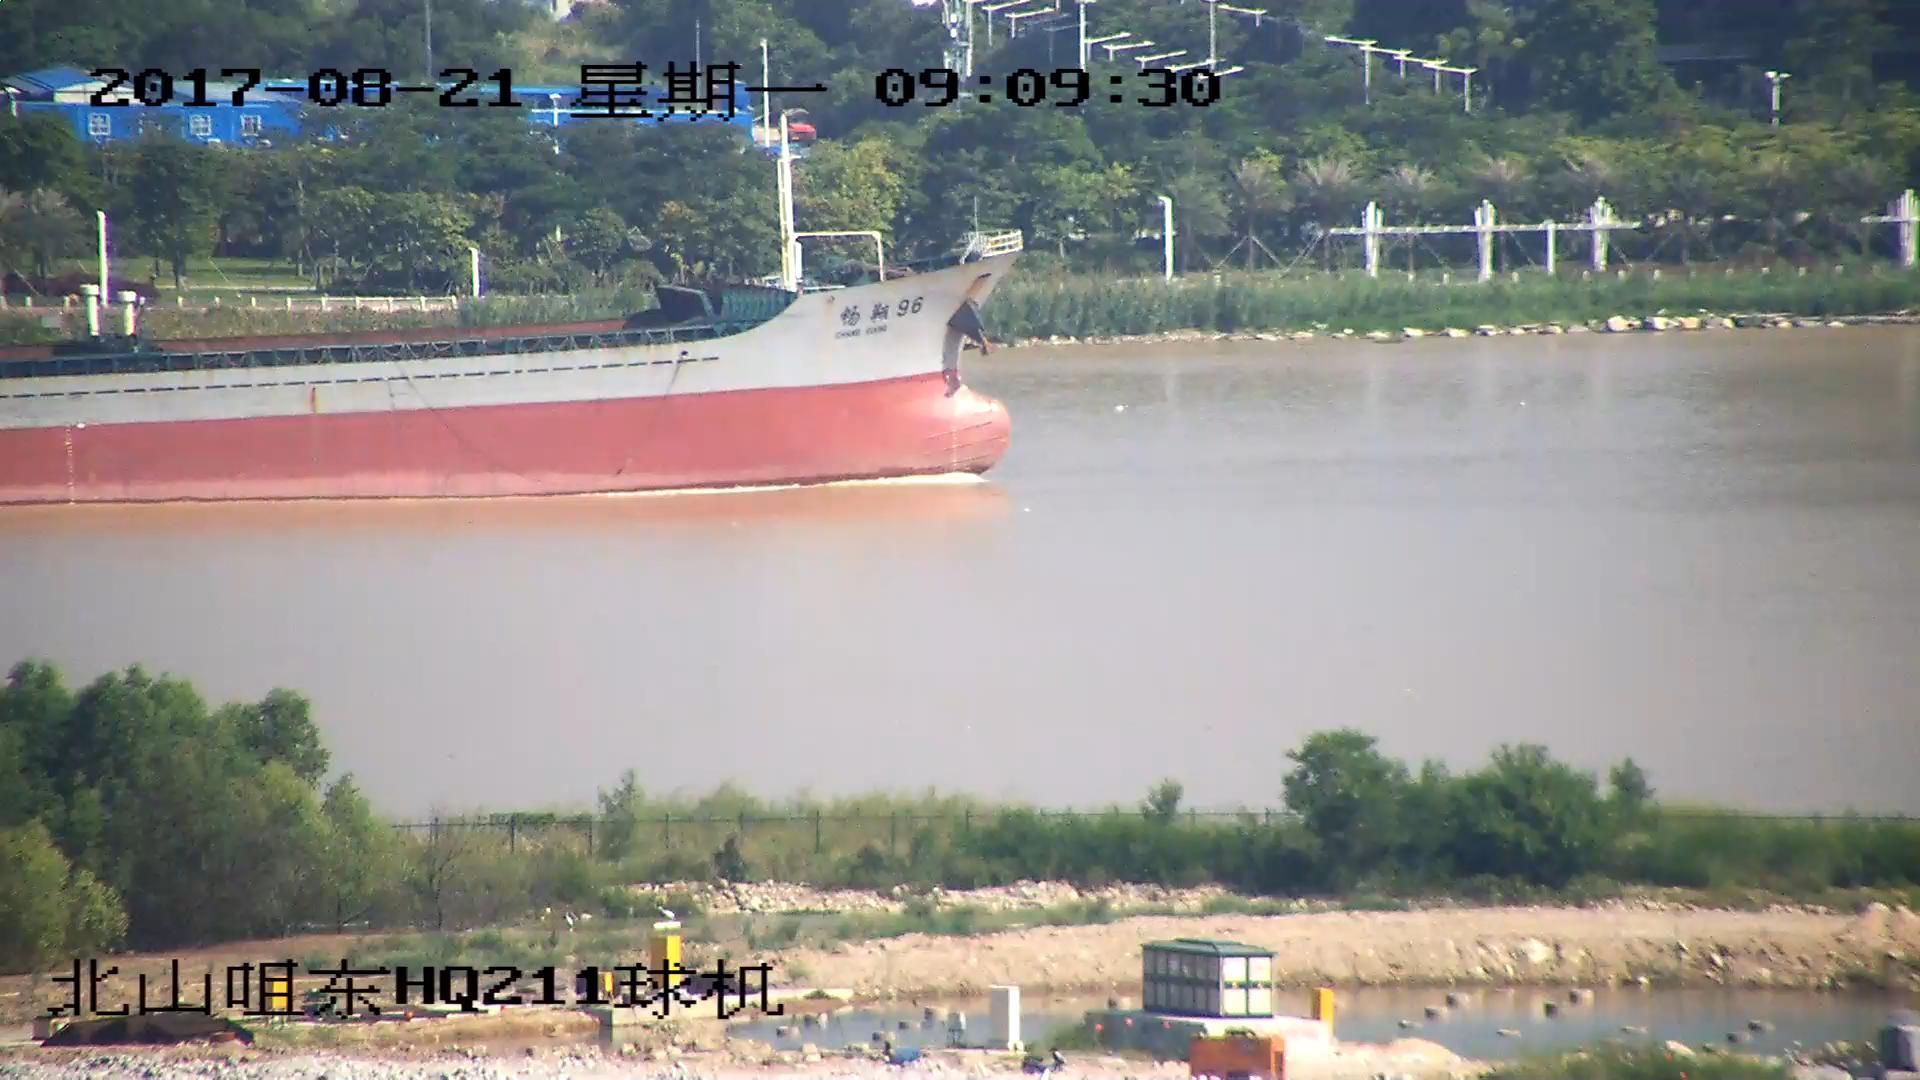Ship: (3, 121, 1021, 501)
